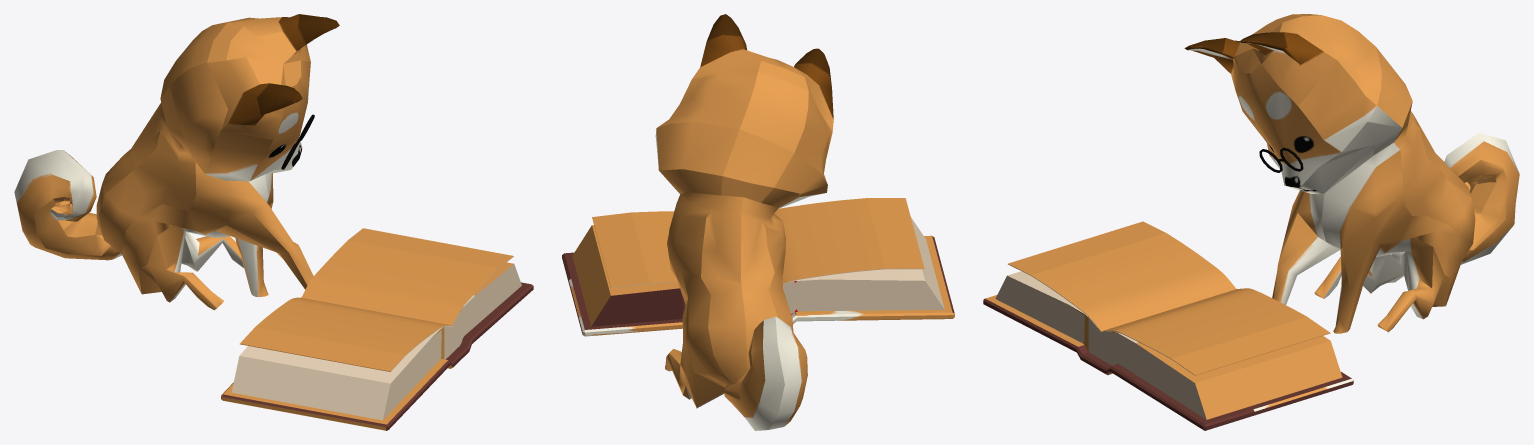
File: book_frame34.obj
3 renders of one model, left to right at view 1: azimuth 30°, elevation 25°; view 2: azimuth 150°, elevation 25°; view 3: azimuth 270°, elevation 25°, orthographic. The views are drawn at different scales.
Parts seen in each view (by area): view 1: StidyGlasses_Computer_Sitting:Sitting:newRigging:BodzL1, polySurface1; view 2: StidyGlasses_Computer_Sitting:Sitting:newRigging:BodzL1, polySurface1; view 3: StidyGlasses_Computer_Sitting:Sitting:newRigging:BodzL1, polySurface1.
Boxes of the visible parts, box(x1,y1,x2,y2) form: StidyGlasses_Computer_Sitting:Sitting:newRigging:BodzL1: box(14, 14, 339, 310); polySurface1: box(221, 228, 533, 430); StidyGlasses_Computer_Sitting:Sitting:newRigging:BodzL1: box(655, 14, 833, 430); polySurface1: box(562, 198, 954, 336); StidyGlasses_Computer_Sitting:Sitting:newRigging:BodzL1: box(1184, 14, 1519, 333); polySurface1: box(983, 221, 1353, 430).
Size of the model in its own units: 9.14 by 7.01 by 11.08.
Materials: 4 (4 with a texture image).
